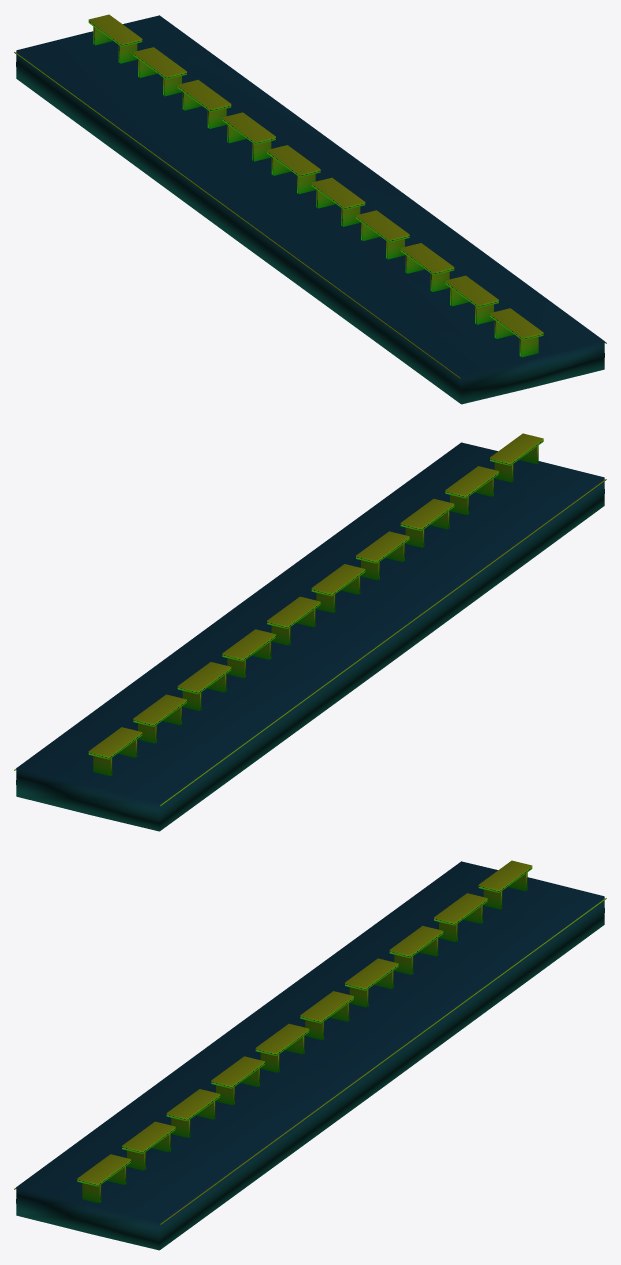
The model's file is court_gallery.glb.
3 renders of one model, top to bottom at view 1: azimuth 30°, elevation 25°; view 2: azimuth 150°, elevation 25°; view 3: azimuth 330°, elevation 25°, orthographic.
Visible parts, largest first — view 1: court_gallery; view 2: court_gallery; view 3: court_gallery.
Boxes of the visible parts, bbox=[...] form: court_gallery: bbox=[14, 14, 606, 404]; court_gallery: bbox=[14, 433, 606, 831]; court_gallery: bbox=[14, 860, 606, 1250].
Size of what is drawn, in the model's own units: 3.05 by 1.05 by 16.
